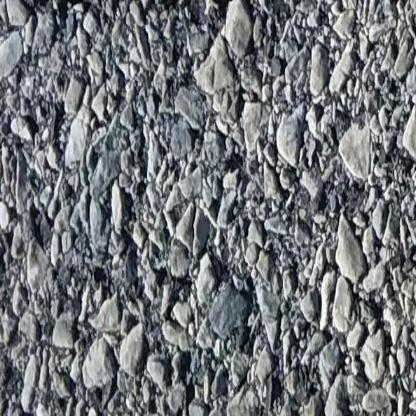Cracks: (28, 0, 236, 24)
